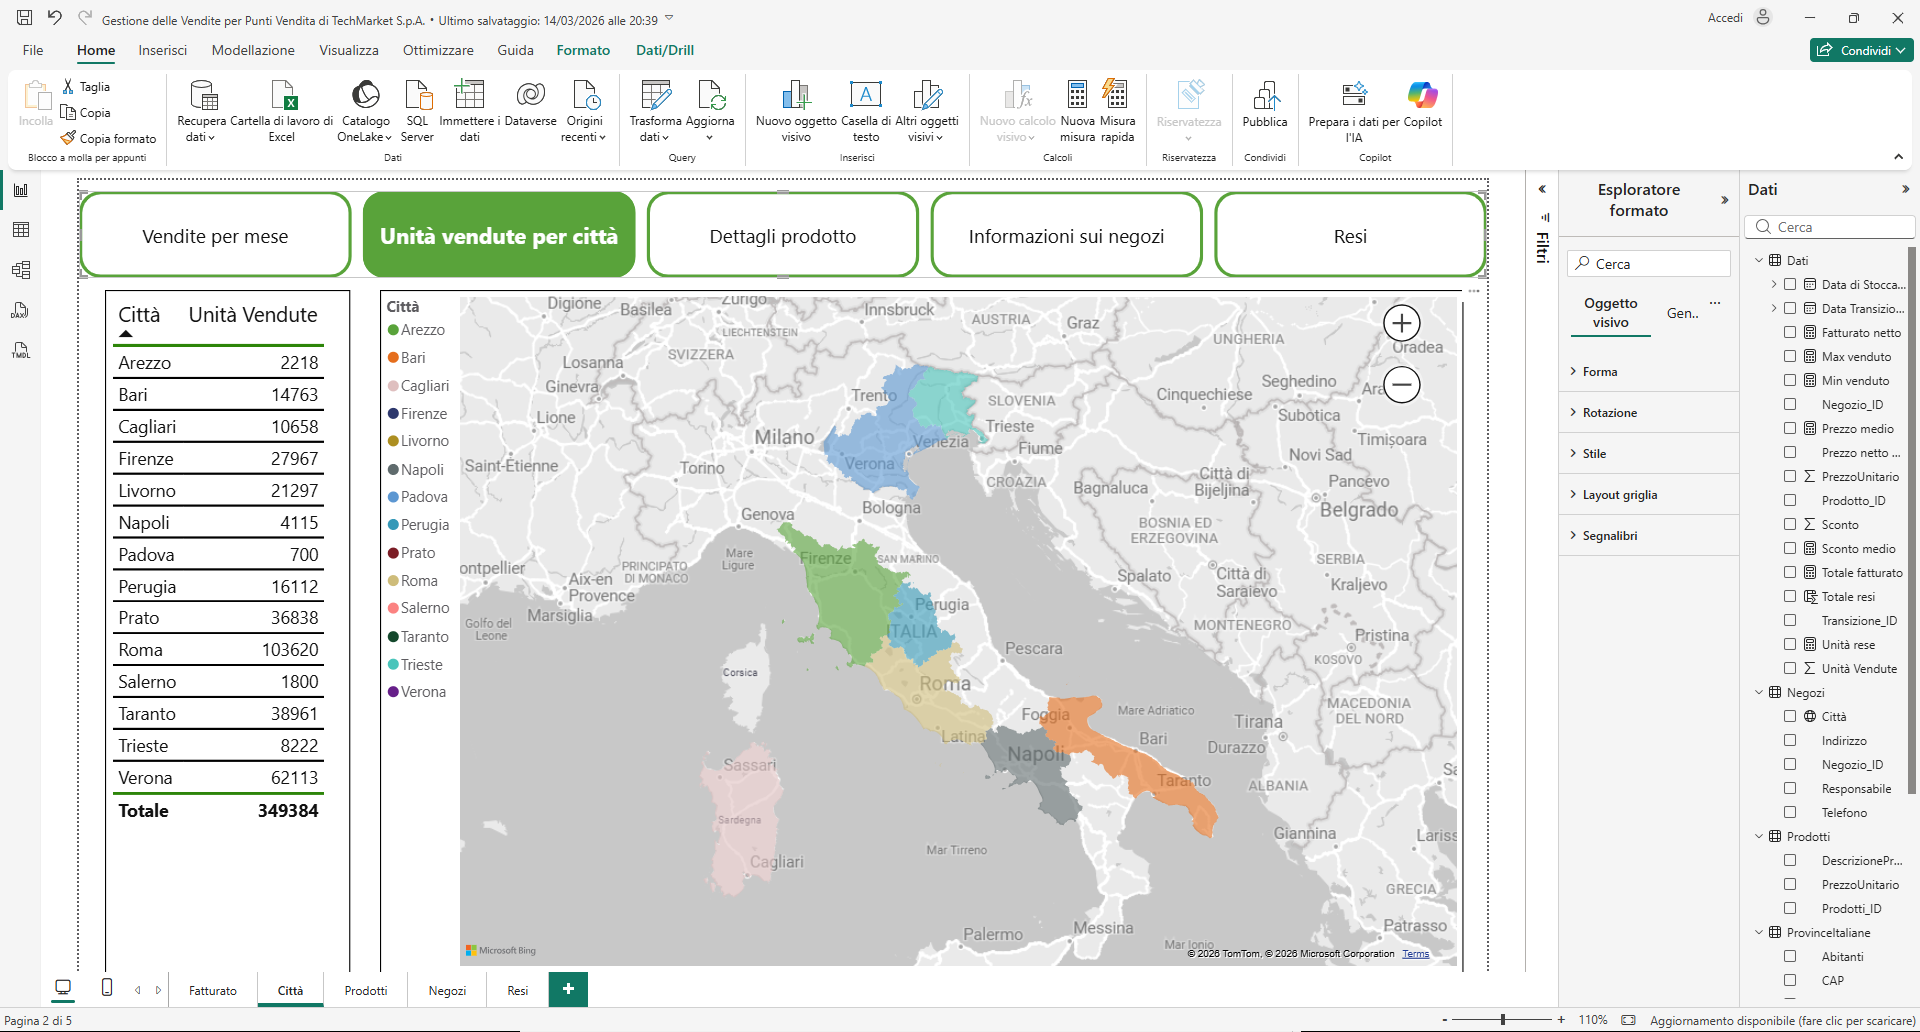

What the dashboard file says about the page in this screenshot:
{"tool":"powerbi","page":{"name":"Città","canvas":[1280,720],"ordinal":1},"visuals":[{"type":"tableEx","fields":{"Values":["Negozi.Città","Sum(Dati.Unità Vendute)"]},"box":[23.7,100.2,222.6,620.5],"z":1000},{"type":"filledMap","fields":{"Series":["Negozi.Città"],"Category":["ProvinceItaliane.Regione"]},"box":[274.1,100.2,985,620.5],"z":4000},{"type":"bookmarkNavigator","box":[0,9.7,1280,79.3],"z":5002}]}

Visuals, with their boxes on the page's 1280x720 design canvas (x1, y1, x2, y2). These are canvas units, not pixel positions in the 1920x1032 screenshot, which may show the page scaled, cropped or inside an application window:
tableEx - Negozi.Città x Sum(Dati.Unità Vendute): region(24, 100, 246, 721)
filledMap - Negozi.Città x ProvinceItaliane.Regione: region(274, 100, 1259, 721)
bookmarkNavigator: region(0, 10, 1280, 89)
